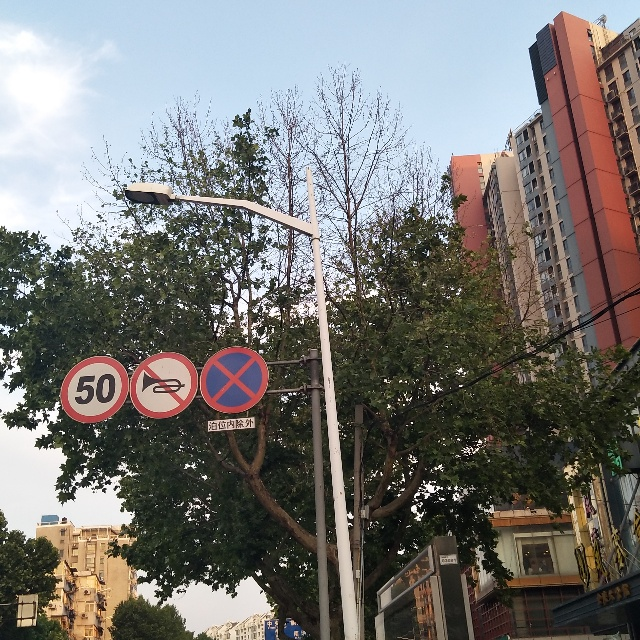nohonk: (130, 352, 198, 419)
stop: (200, 346, 269, 414)
